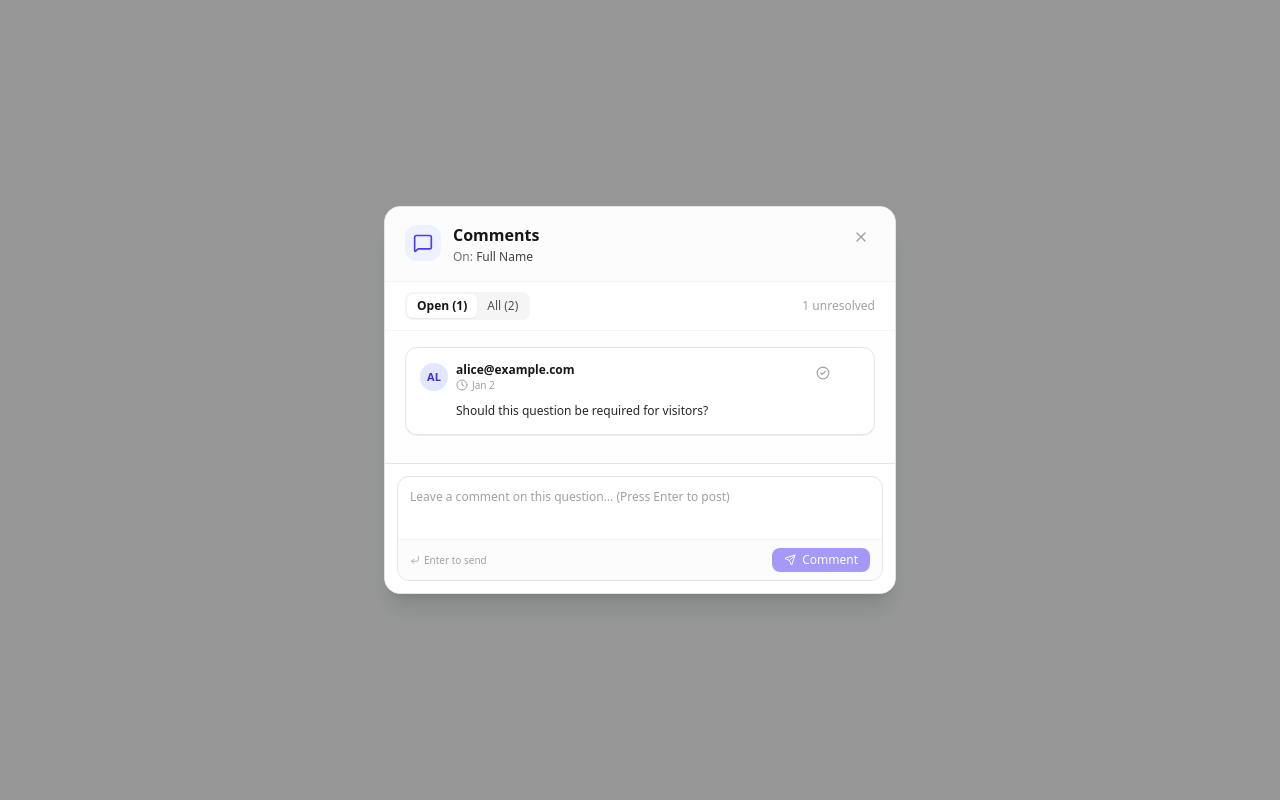
Test case: Field Comments & Version History Feature › FieldCommentsModal › renders field comments and allows switching between open and all filters
Expected: the text "Full Name" is shown, [476,249,533,265]
Expected: the text "Should this question be required for visitors?" is shown, [456,402,708,419]
# Switch to 'All (2)' filter
Click the button "All (2)".
click(503, 306)  # box [477,294,528,318]
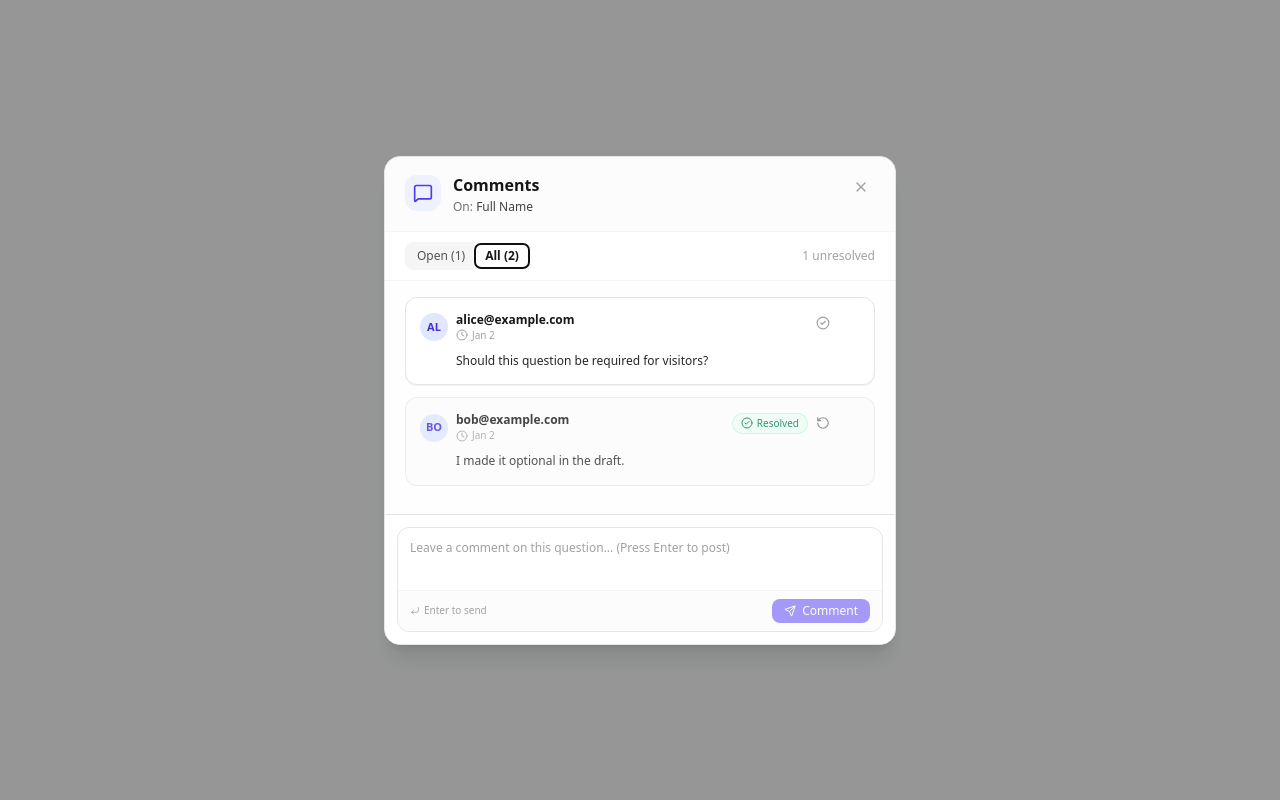
Expected: the text "I made it optional in the draft." is shown, [456,452,624,469]
Expected: the text "Resolved" is shown, [732,412,808,434]
